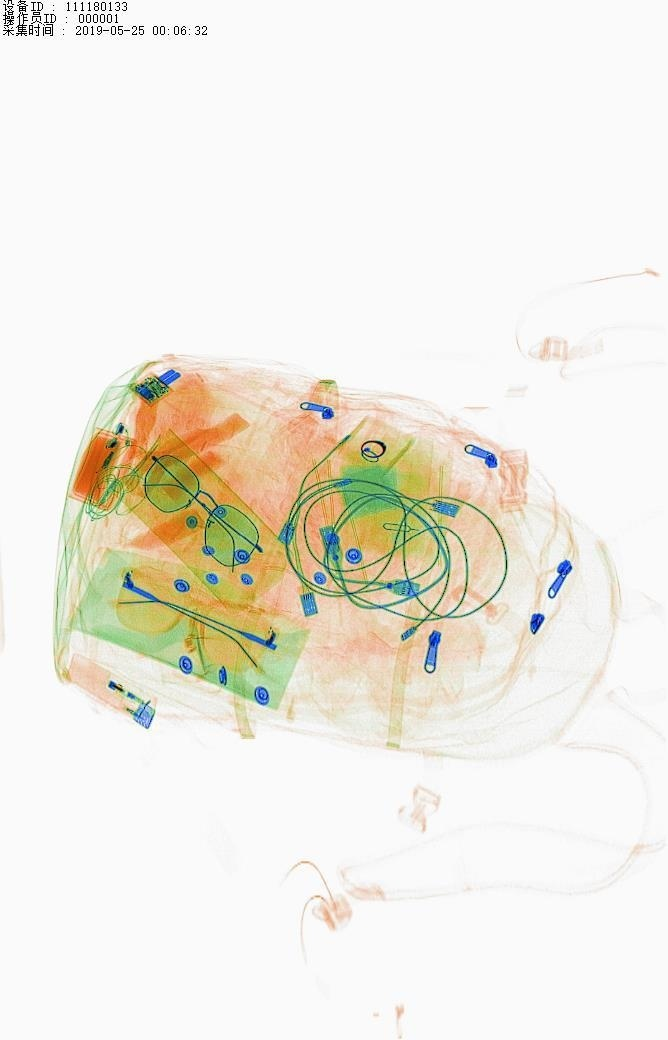NonmetallicFire: (65, 648, 166, 739)
